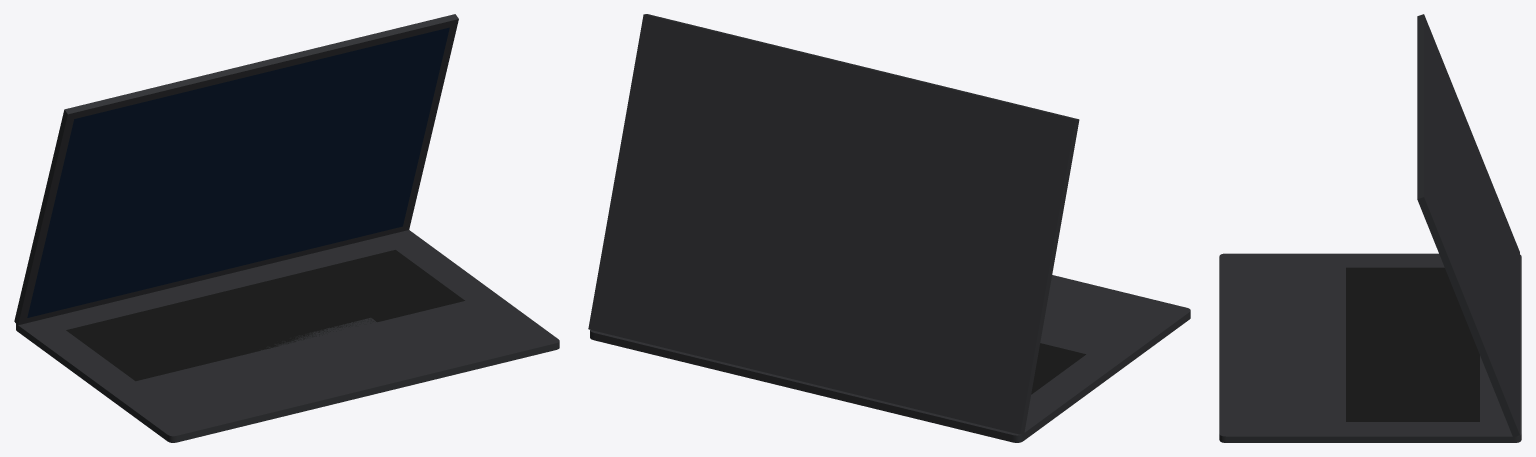
Rendered from macbook-pro-16.glb.
The picture shows the model from 3 angles, left to right: view 1: azimuth 30°, elevation 25°; view 2: azimuth 150°, elevation 25°; view 3: azimuth 270°, elevation 25°; orthographic projection. The views are drawn at different scales.
Bounding box in the file's own units: 0.3557 × 0.223 × 0.2481.
